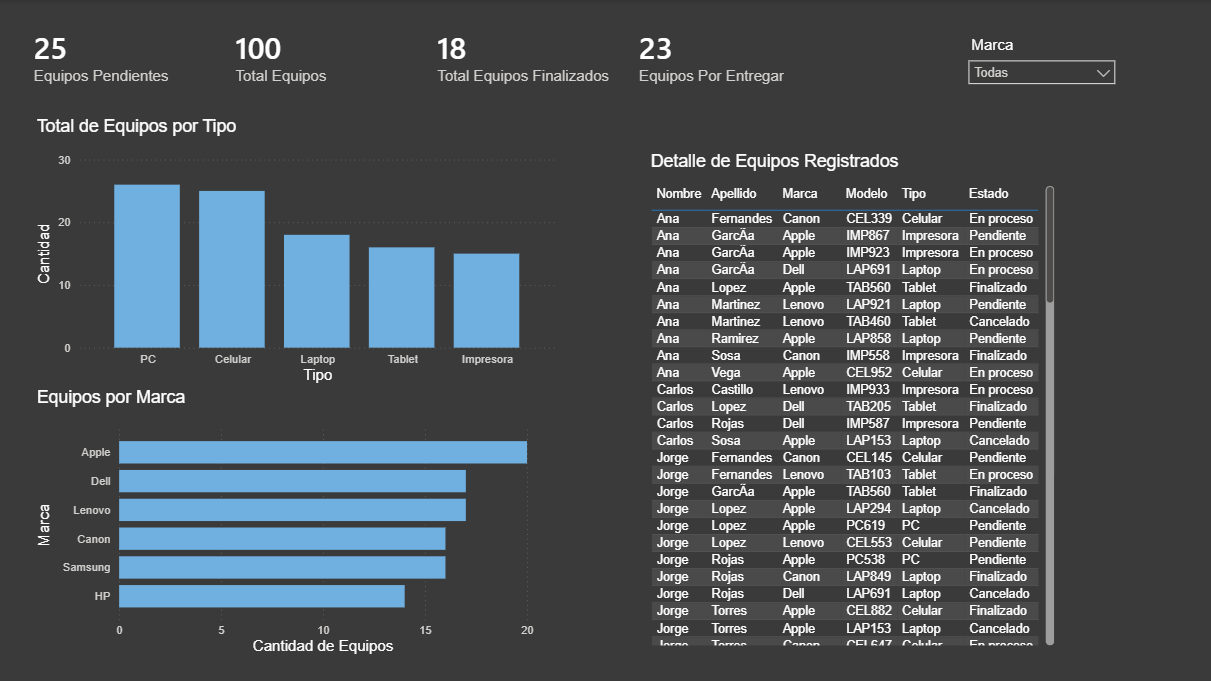

Layout of this report page (visuals, bound fields, positions):
{"tool":"powerbi","page":{"name":"Análisis de equipos registrados","canvas":[1280,720],"ordinal":1},"visuals":[{"type":"clusteredColumnChart","title":"Total de Equipos por Tipo","fields":{"Category":["Equipo.Tipo"],"Y":["Cliente.TotalEquipos"]},"box":[23.1,124.7,546.2,280.2],"z":0},{"type":"barChart","title":"Equipos por Marca","fields":{"Category":["Equipo.Marca"],"Y":["CountNonNull(Equipo.IdEquipo)"]},"box":[28.3,404.8,611.7,263.5],"z":1000},{"type":"slicer","fields":{"Values":["Equipo.Marca"]},"box":[1001.1,34.7,175,68.3],"z":5000},{"type":"cardVisual","fields":{"Data":["Cliente.EquiposPendientes","Cliente.TotalEquipos","Cliente.TotalEquiposFinalizados","Cliente.EquiposPorEntregar"]},"box":[23.1,12.9,915,111.8],"z":6000},{"type":"tableEx","title":"Detalle de Equipos Registrados","fields":{"Values":["Cliente.Nombre","Cliente.Apellido","Equipo.Marca","Equipo.Modelo","Equipo.Tipo","OrdenServicio.Estado"]},"box":[721,143.9,389.4,503.8],"z":6001}]}

Visuals, with their boxes in screenshot pixels (x1, y1, x2, y2), scaled from the page's 1280x720 canvas onto the 1211x681 screenshot:
"Total de Equipos por Tipo" clusteredColumnChart: select_region(22, 118, 539, 383)
"Equipos por Marca" barChart: select_region(27, 383, 606, 632)
slicer - Equipo.Marca: select_region(947, 33, 1113, 97)
cardVisual - Cliente.EquiposPendientes x Cliente.TotalEquipos: select_region(22, 12, 888, 118)
"Detalle de Equipos Registrados" tableEx: select_region(682, 136, 1051, 613)
